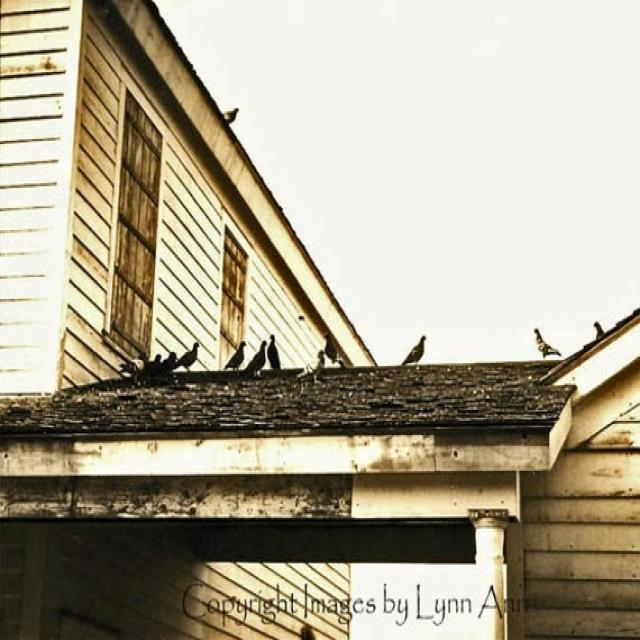bird: (241, 338, 268, 378), (296, 350, 324, 383), (172, 342, 200, 372), (534, 328, 561, 359), (402, 335, 426, 367), (224, 341, 246, 371), (266, 334, 281, 370), (324, 333, 337, 361), (146, 354, 162, 376), (162, 352, 178, 372), (223, 107, 239, 124), (593, 321, 606, 340)
